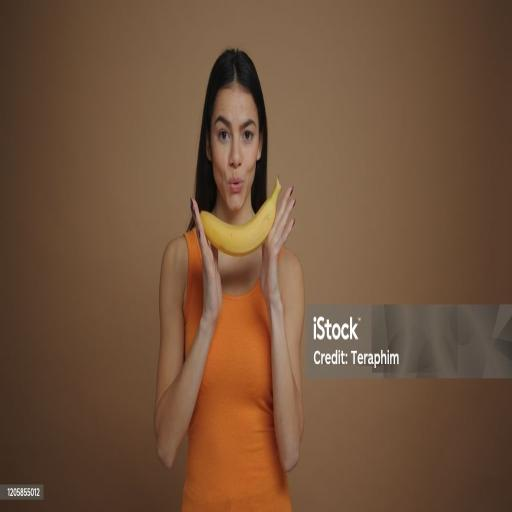banana: (200, 177, 281, 255)
